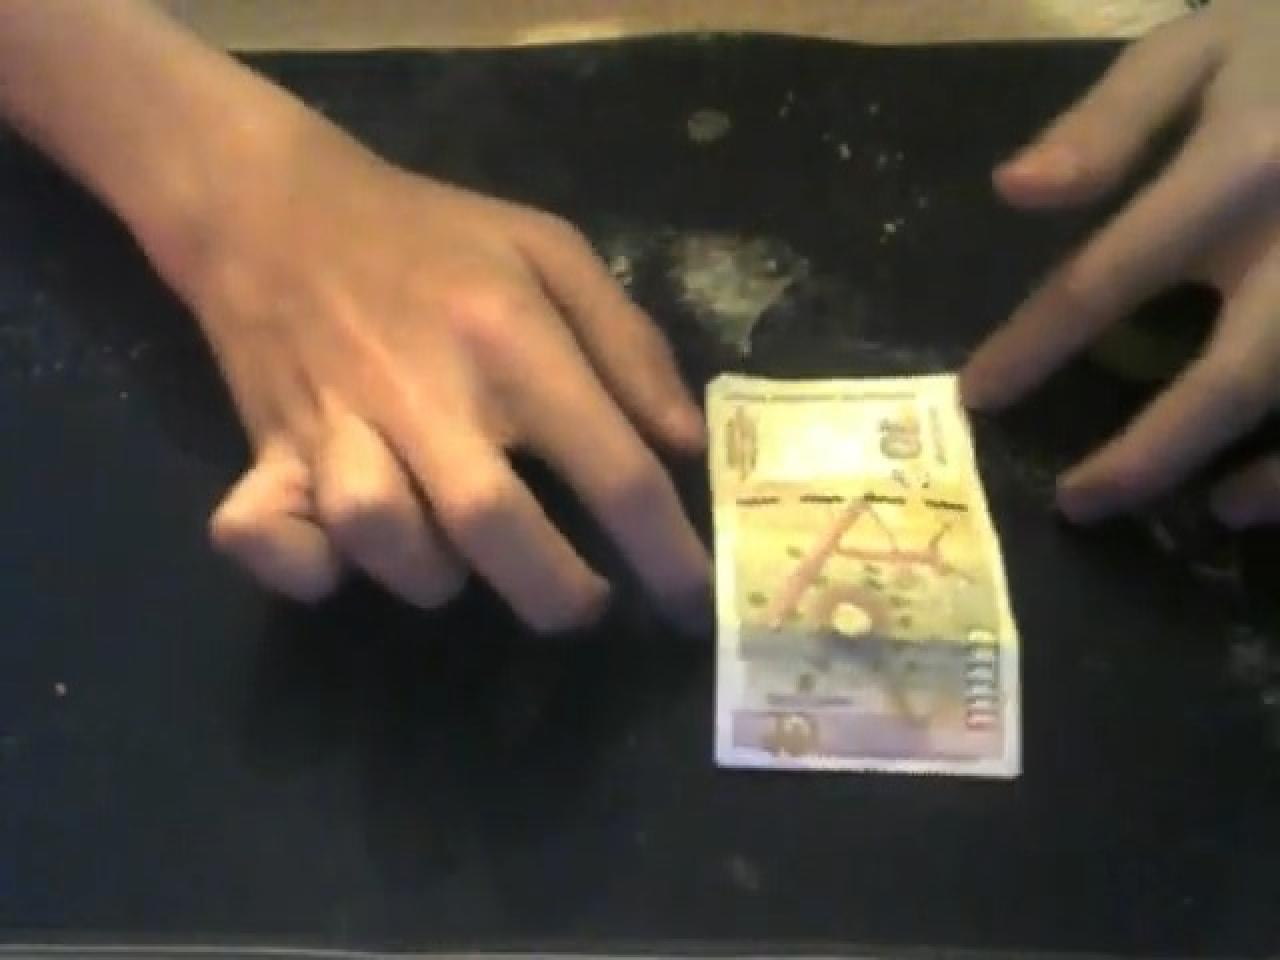10leva: (706, 373, 1024, 778)
